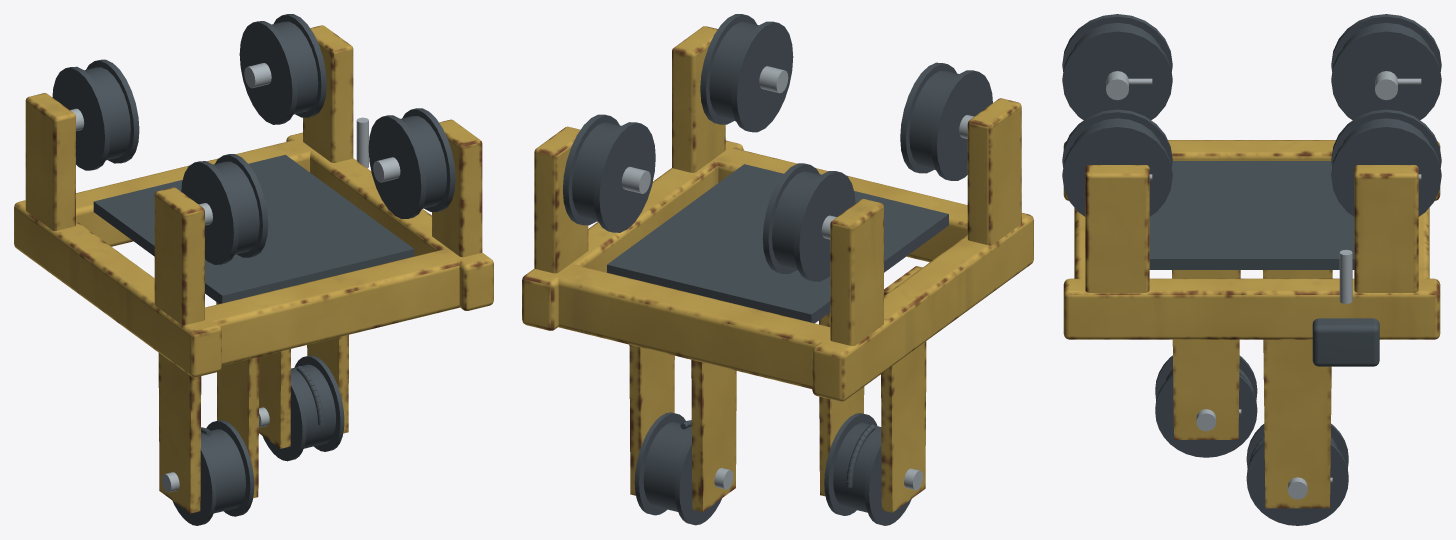
File: provision_trolley.glb
3 views of the same model, side by side, from view 1: azimuth 30°, elevation 25°; view 2: azimuth 150°, elevation 25°; view 3: azimuth 270°, elevation 25° (orthographic). The views are drawn at different scales.
Visible parts, largest first — view 1: provision_trolley, RunningWheel_RB, RunningWheel_RF, RunningWheel_LF, RunningWheel_LB, HeadSheave_L, HeadSheave_R; view 2: provision_trolley, RunningWheel_RB, RunningWheel_RF, RunningWheel_LF, RunningWheel_LB, HeadSheave_R, HeadSheave_L; view 3: provision_trolley, RunningWheel_LB, RunningWheel_LF, RunningWheel_RB, RunningWheel_RF, HeadSheave_R, HeadSheave_L.
Boxes of the visible parts, x1,y1,x2,y2 form: provision_trolley: (14, 25, 493, 513); RunningWheel_RB: (368, 108, 455, 218); RunningWheel_RF: (239, 14, 326, 124); RunningWheel_LF: (52, 59, 139, 170); RunningWheel_LB: (181, 154, 268, 264); HeadSheave_L: (172, 420, 254, 525); HeadSheave_R: (262, 355, 344, 461); provision_trolley: (522, 26, 1033, 512); RunningWheel_RB: (700, 14, 793, 132); RunningWheel_RF: (563, 114, 655, 232); RunningWheel_LF: (762, 163, 855, 281); RunningWheel_LB: (900, 62, 992, 180); HeadSheave_R: (634, 412, 721, 525); HeadSheave_L: (824, 413, 911, 525); provision_trolley: (1063, 71, 1440, 508); RunningWheel_LB: (1062, 14, 1172, 120); RunningWheel_LF: (1331, 14, 1441, 120); RunningWheel_RB: (1062, 109, 1172, 216); RunningWheel_RF: (1331, 109, 1441, 216); HeadSheave_R: (1246, 423, 1348, 525); HeadSheave_L: (1155, 355, 1257, 457).
Bounding box in the file's own units: 1.44 × 1.68 × 1.41.
4 materials, 1 textured.
